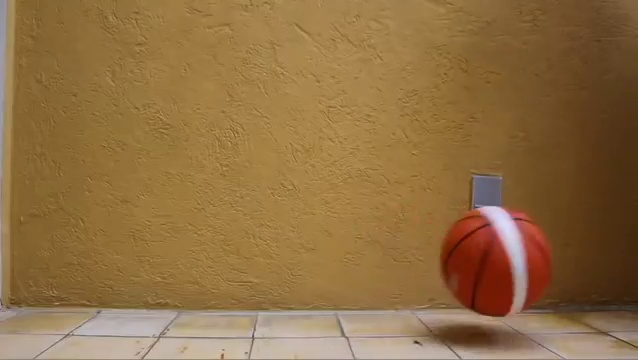ball: (440, 204, 552, 315)
